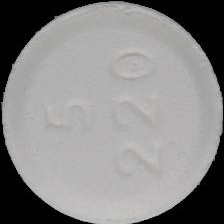0179-0019: (0, 0, 224, 224)
